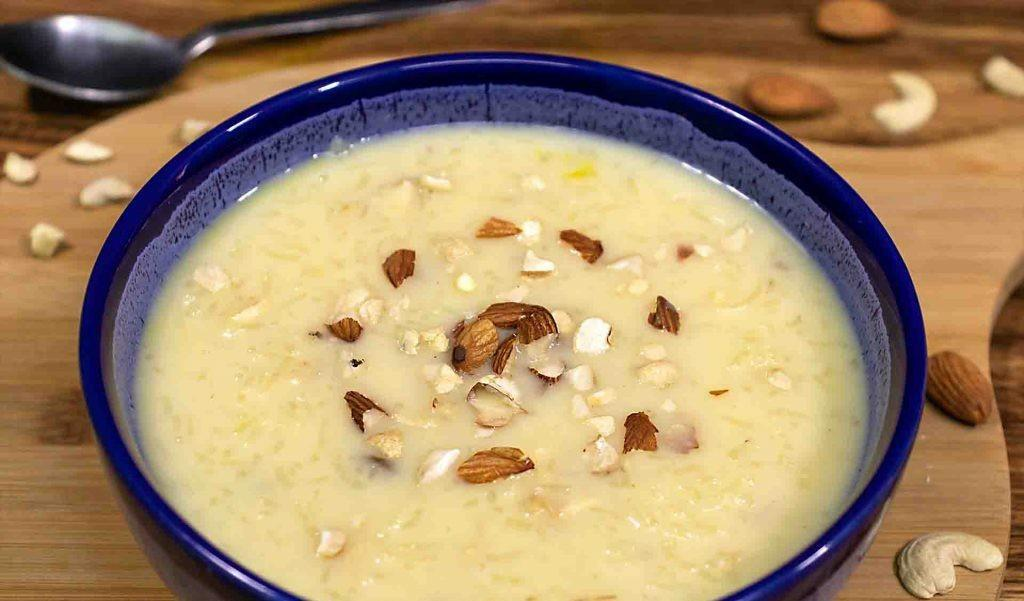Kheer: (129, 119, 873, 601)
